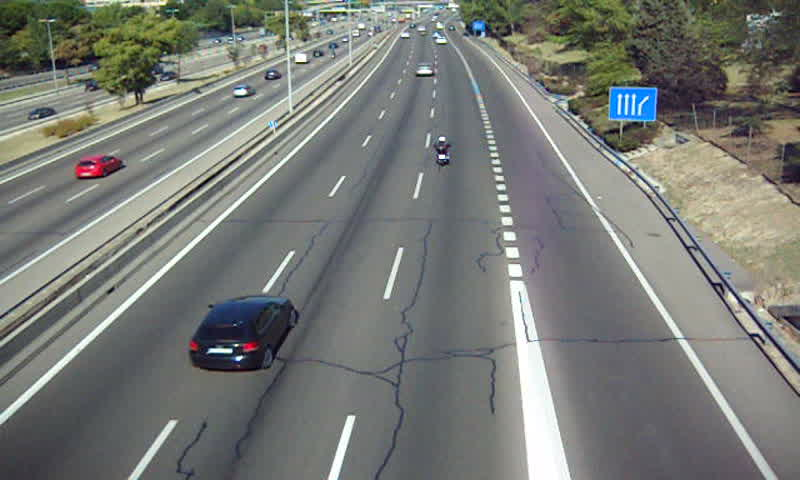car: (187, 297, 296, 371), (414, 63, 434, 78)
motorcycle: (433, 135, 452, 168)
